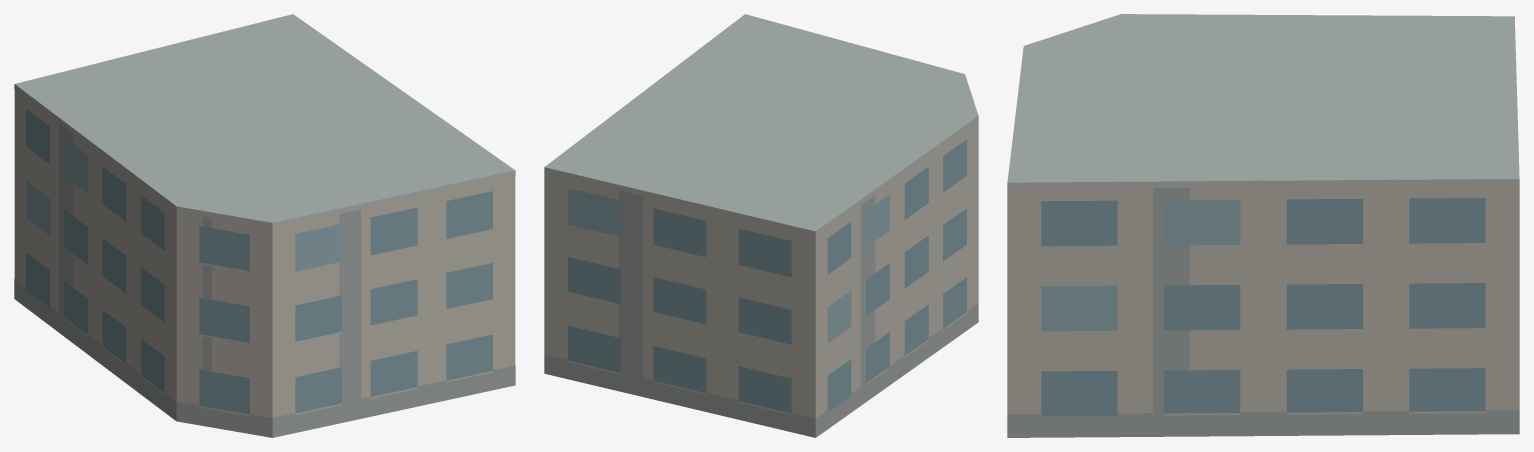
The model's file is survey-upis-32749269.glb.
3 views of the same model, side by side, from view 1: azimuth 30°, elevation 25°; view 2: azimuth 150°, elevation 25°; view 3: azimuth 270°, elevation 25° (orthographic). The views are drawn at different scales.
Parts seen in each view (by area): view 1: survey-upis-32749269.tmp; view 2: survey-upis-32749269.tmp; view 3: survey-upis-32749269.tmp.
Part boxes in pixels (x1=…): survey-upis-32749269.tmp: x1=14, y1=14, x2=515, y2=437; survey-upis-32749269.tmp: x1=544, y1=14, x2=978, y2=437; survey-upis-32749269.tmp: x1=1007, y1=14, x2=1519, y2=437.
Size of the model in its own units: 12.97 by 9.15 by 16.65.
